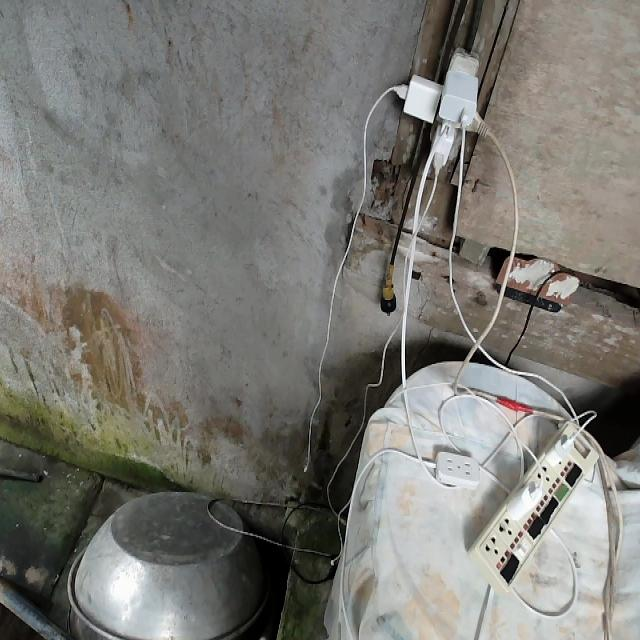-: (400, 51, 486, 173)
